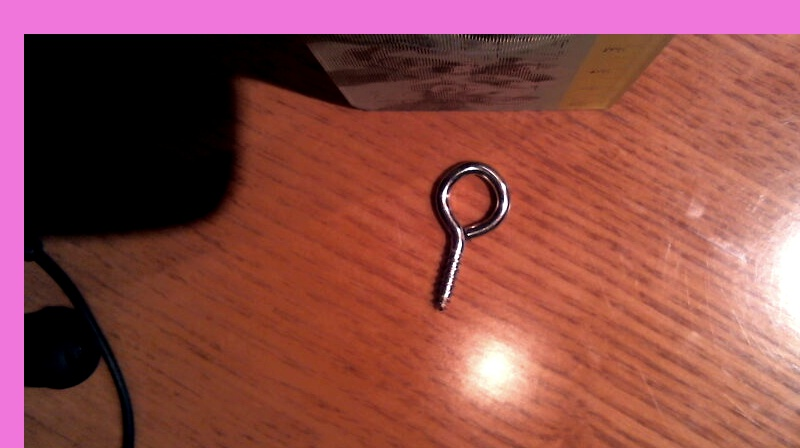O001: (425, 159, 514, 312)
